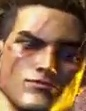kevin: (2, 6, 85, 108)
